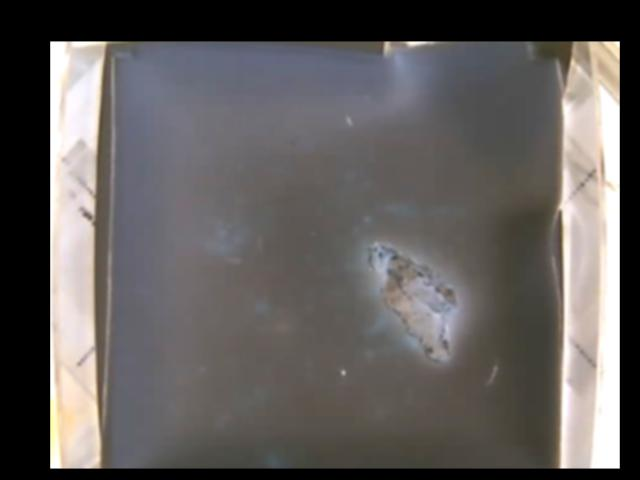Brisk: (370, 238, 456, 360)
